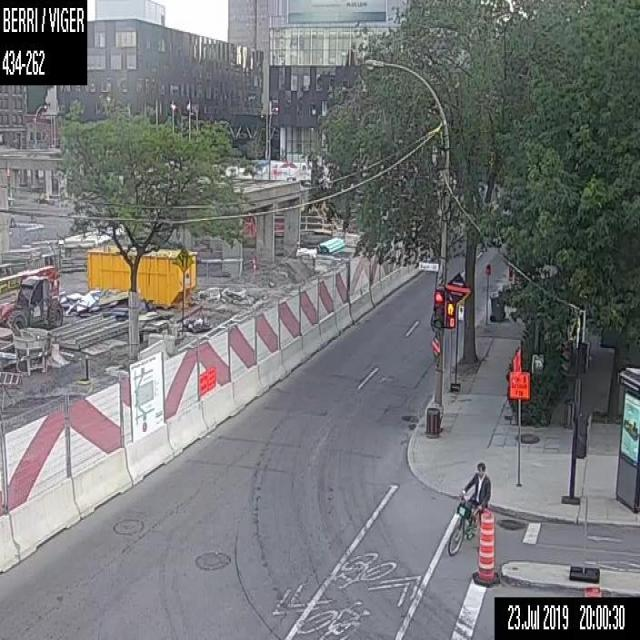construction: (506, 351, 530, 486), (470, 511, 498, 585)
cyclist: (446, 460, 491, 556)
